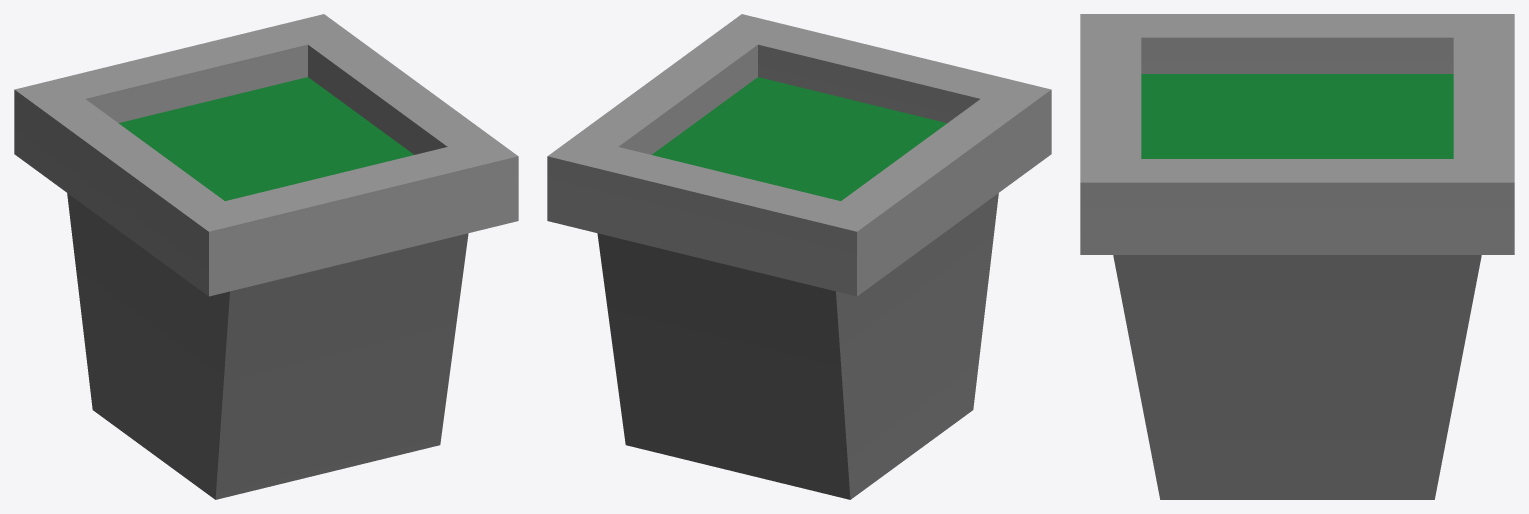
File: FlowerPot_5_3_F.fbx
3 views of the same model, side by side, from view 1: azimuth 30°, elevation 25°; view 2: azimuth 150°, elevation 25°; view 3: azimuth 270°, elevation 25° (orthographic). The views are drawn at different scales.
Visible parts, largest first — view 1: FlowerPot_5_3_F; view 2: FlowerPot_5_3_F; view 3: FlowerPot_5_3_F.
Part boxes in pixels (x1,y1,x2,y2): FlowerPot_5_3_F: (14,14,518,499); FlowerPot_5_3_F: (547,14,1051,499); FlowerPot_5_3_F: (1080,14,1514,499).
Size of the model in its own units: 32.46 by 30.52 by 35.3.
